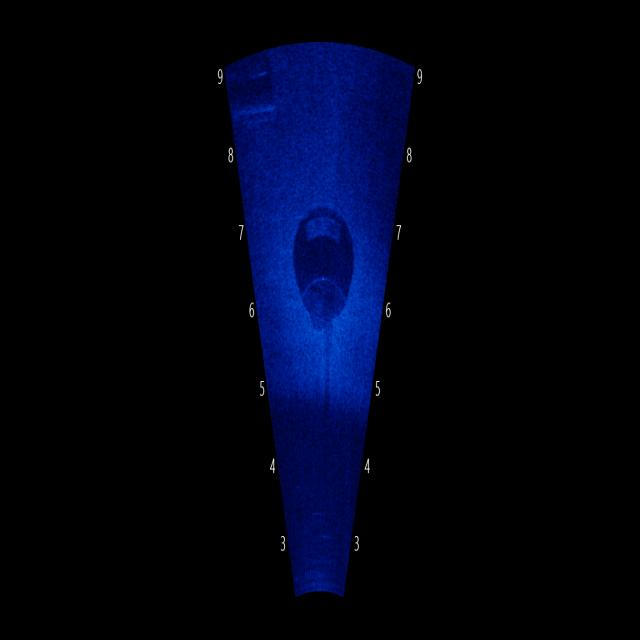circle: (277, 165, 364, 338)
